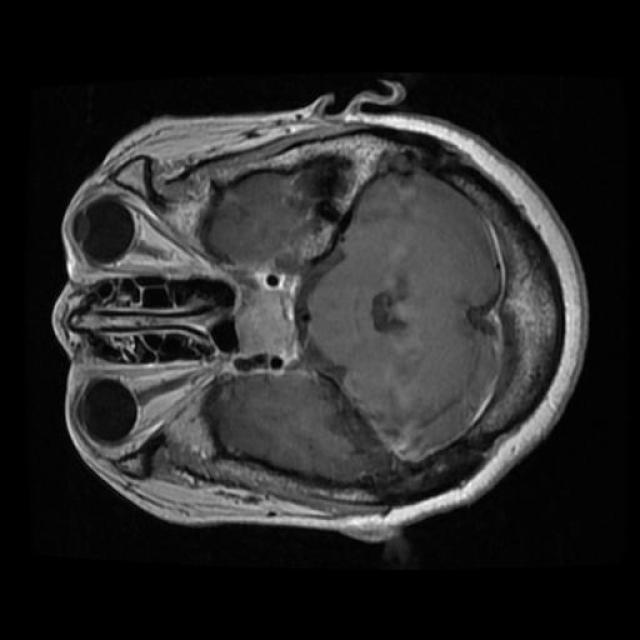Pituitary: (232, 265, 303, 371)
